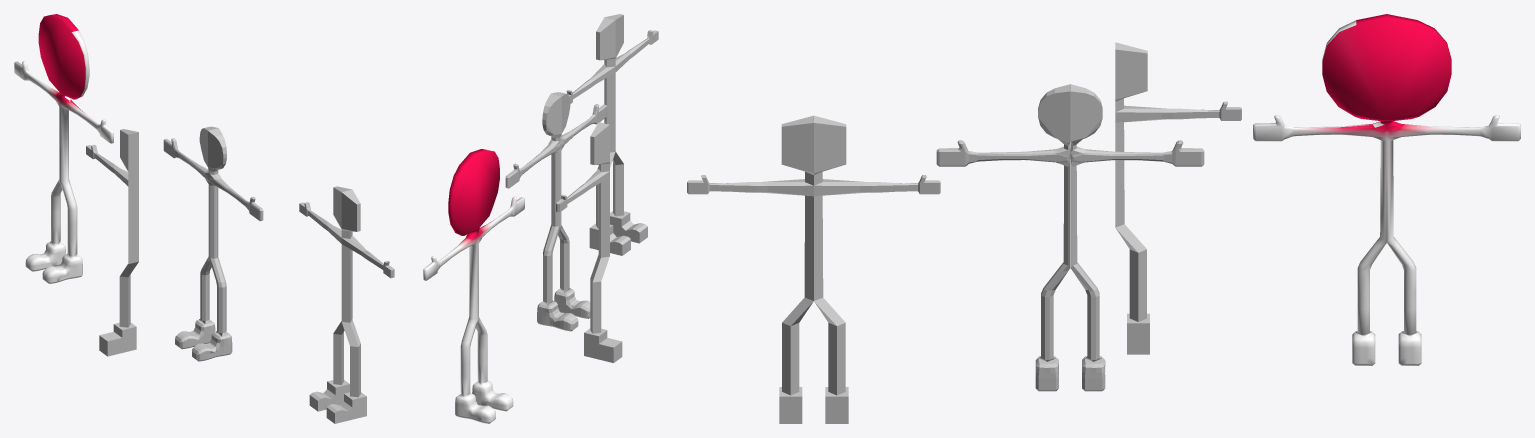
File: lollipoptest.fbx
3 renders of one model, left to right at view 1: azimuth 30°, elevation 25°; view 2: azimuth 150°, elevation 25°; view 3: azimuth 270°, elevation 25°, orthographic. The views are drawn at different scales.
Visible parts, largest first — view 1: Cube, Cube.003, Cube.004, Cube.002; view 2: Cube, Cube.004, Cube.003, Cube.002; view 3: Cube, Cube.003, Cube.004, Cube.002.
Boxes of the visible parts, left/top/right/bottom form: Cube: left=14, top=14, right=113, bottom=283; Cube.003: left=299, top=186, right=394, bottom=423; Cube.004: left=163, top=126, right=263, bottom=361; Cube.002: left=86, top=129, right=138, bottom=356; Cube: left=423, top=149, right=524, bottom=423; Cube.004: left=505, top=92, right=606, bottom=331; Cube.003: left=566, top=14, right=658, bottom=255; Cube.002: left=556, top=122, right=622, bottom=362; Cube: left=1253, top=14, right=1520, bottom=365; Cube.003: left=687, top=115, right=940, bottom=423; Cube.004: left=936, top=84, right=1204, bottom=391; Cube.002: left=1115, top=42, right=1241, bottom=354.
Bounding box in the file's own units: 9.14 × 16.82 × 36.04.
